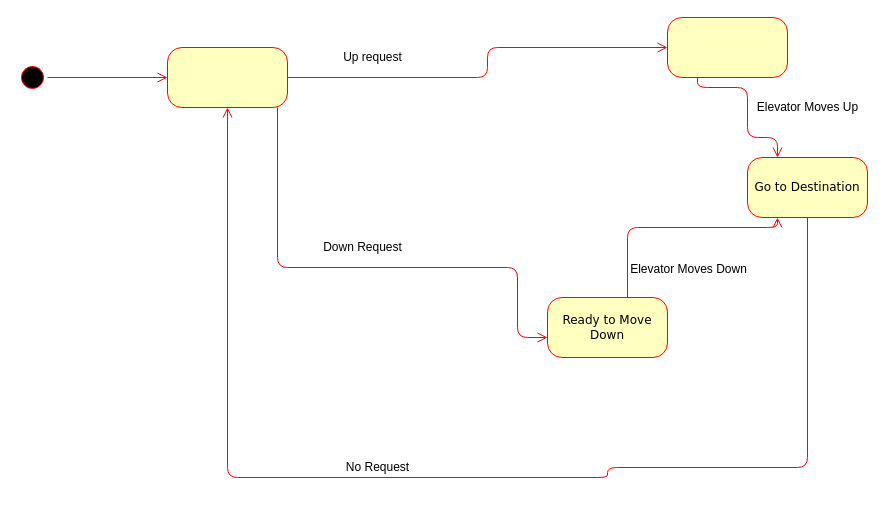
Some shapes in this 885 by 505 pixel diagram are drawn without their labels. Here are the shapes that lost their labels. From the top down, the centre of each, then its label:
At (x=727, y=47): "Ready to Move Up".
At (x=227, y=77): "Elevator Idle".
